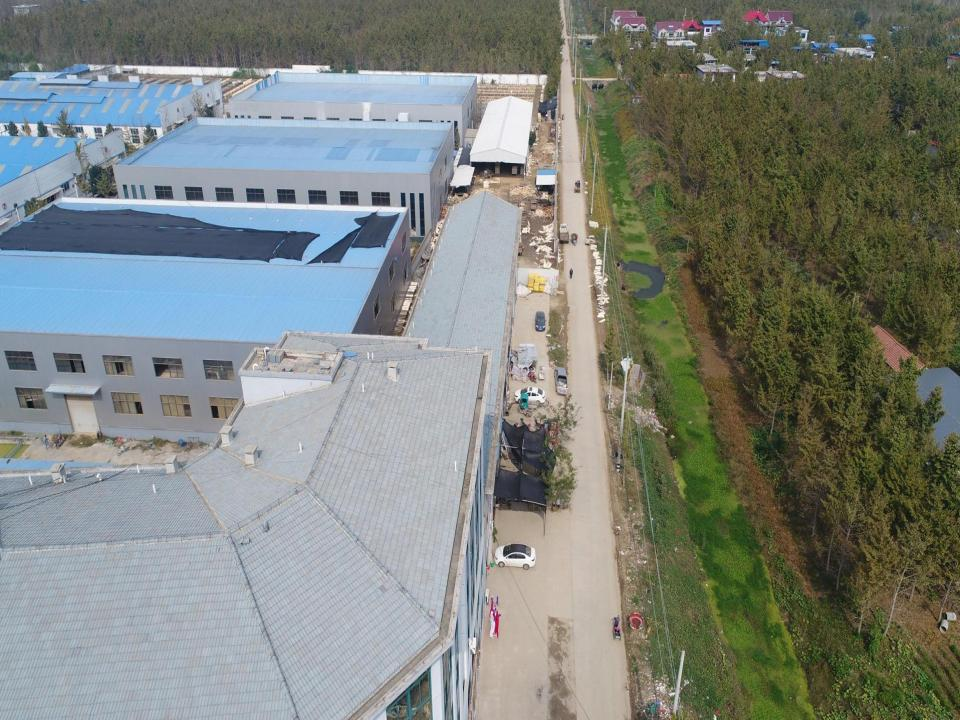car: (494, 542, 537, 570), (514, 387, 546, 404), (534, 310, 546, 331), (558, 48, 563, 56)
truck: (554, 365, 569, 395), (558, 223, 570, 244)
